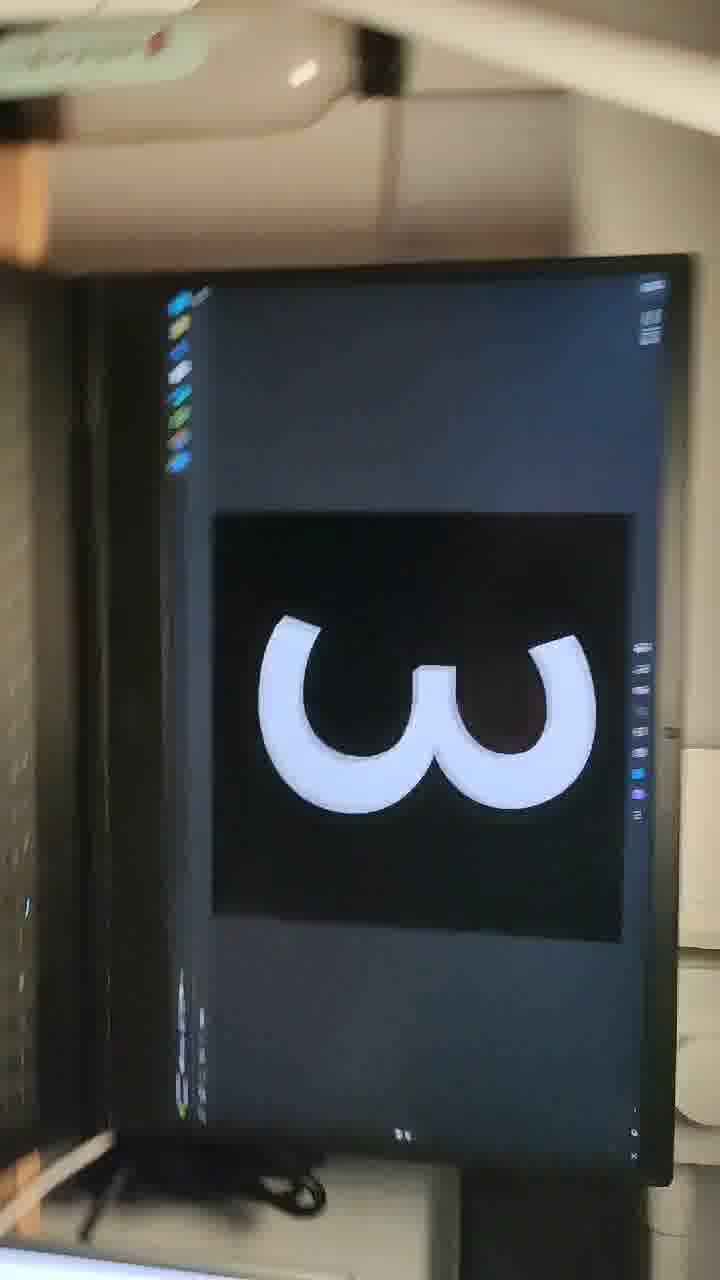three: (249, 560, 642, 973)
